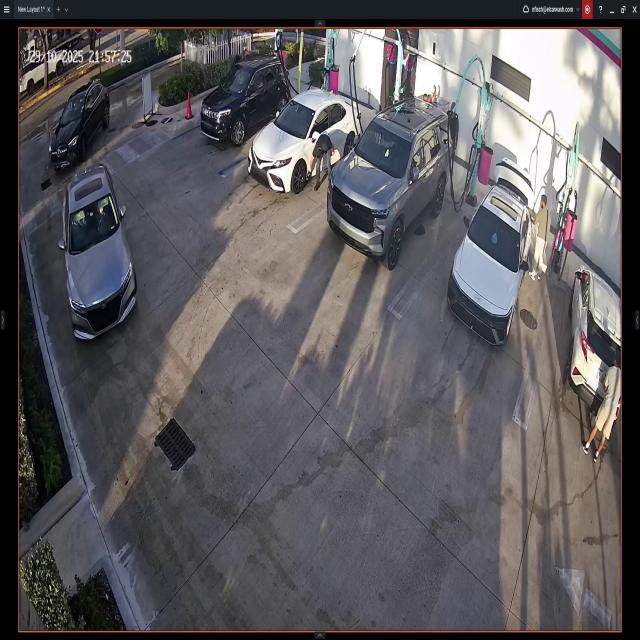Car: (328, 100, 452, 266), (450, 162, 533, 343), (59, 173, 133, 340), (249, 90, 362, 192), (558, 259, 622, 416), (196, 59, 286, 148), (49, 85, 109, 166)
